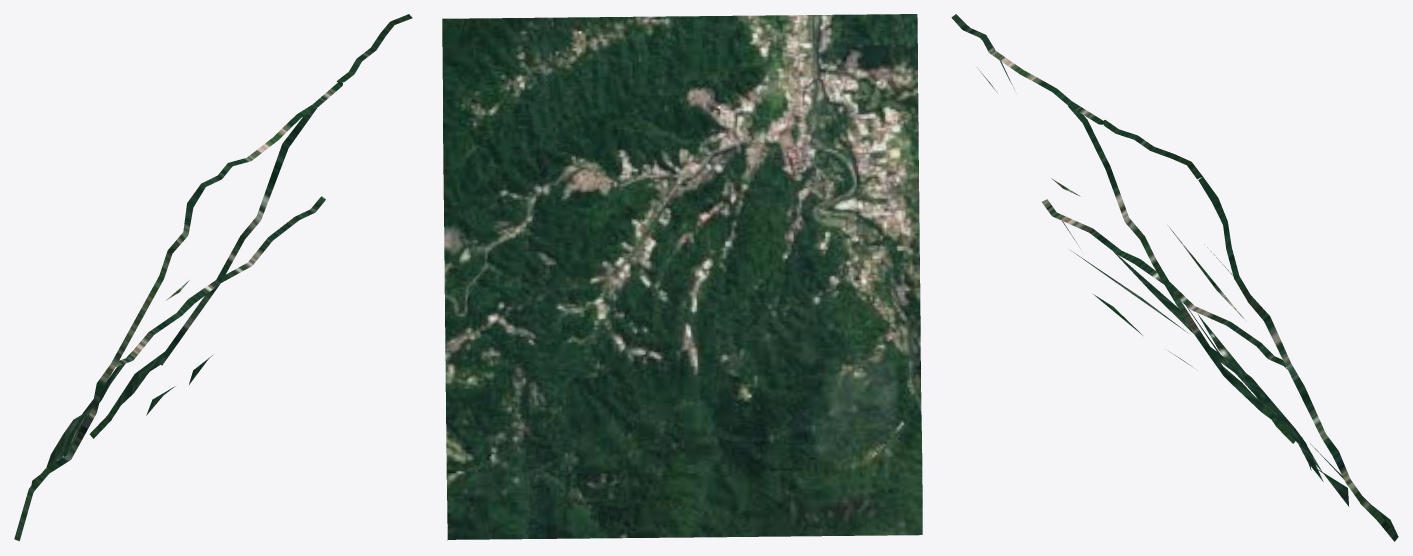
The picture shows the model from 3 angles, left to right: view 1: azimuth 30°, elevation 25°; view 2: azimuth 150°, elevation 25°; view 3: azimuth 270°, elevation 25°; orthographic projection. The views are drawn at different scales.
Bounding box in the file's own units: 4898 × 4471 × 4298.
1 material, 1 textured.
